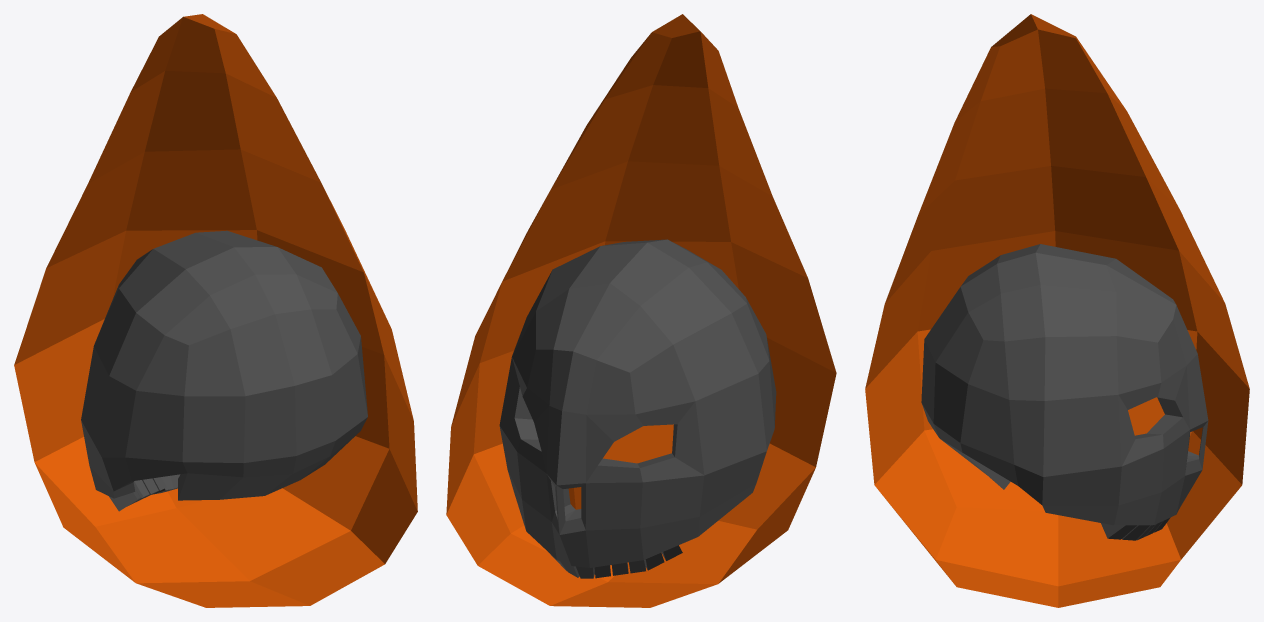
File: Stone Skull.glb
The picture shows the model from 3 angles, left to right: view 1: azimuth 30°, elevation 25°; view 2: azimuth 150°, elevation 25°; view 3: azimuth 270°, elevation 25°; orthographic projection. The views are drawn at different scales.
Visible parts, largest first — view 1: Fire, Skull; view 2: Fire, Skull; view 3: Fire, Skull.
Part boxes in pixels (<box>): Fire: <box>14,14,417,607</box>; Skull: <box>81,230,367,511</box>; Fire: <box>446,14,836,607</box>; Skull: <box>499,239,776,578</box>; Fire: <box>865,14,1249,607</box>; Skull: <box>921,244,1208,540</box>.
Size of the model in its own units: 1.75 by 2.86 by 1.83.
